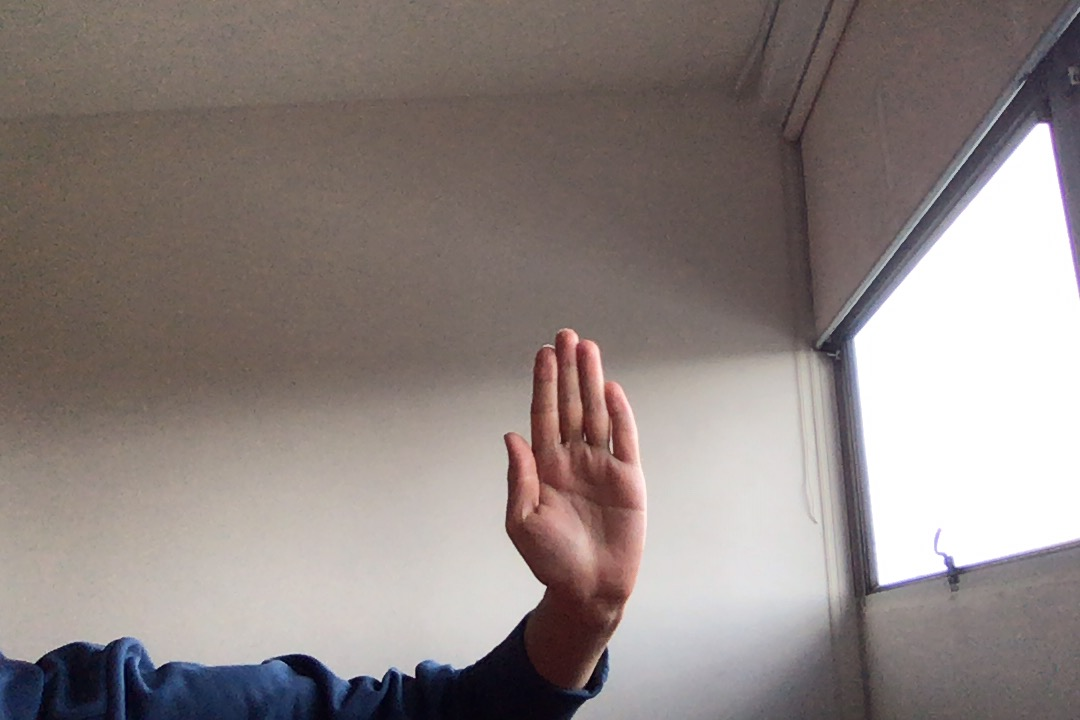palmhand: (496, 324, 651, 605)
